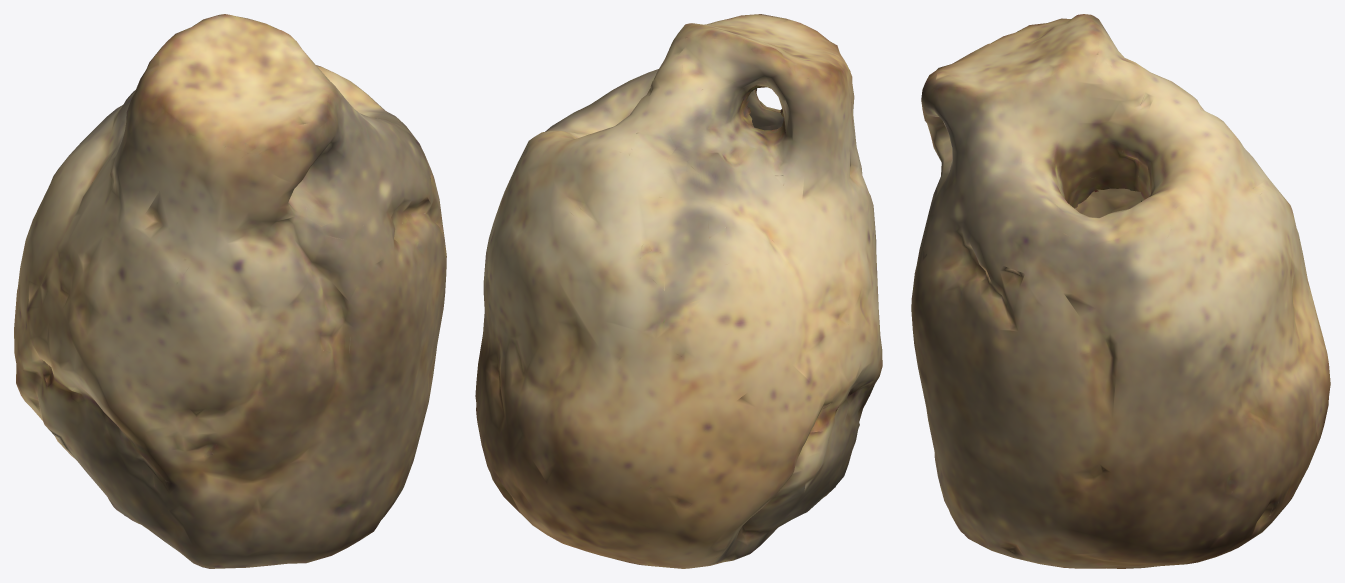
The picture shows the model from 3 angles, left to right: view 1: azimuth 30°, elevation 25°; view 2: azimuth 150°, elevation 25°; view 3: azimuth 270°, elevation 25°; orthographic projection. The views are drawn at different scales.
Parts seen in each view (by area): view 1: IN0306_ss_low; view 2: IN0306_ss_low; view 3: IN0306_ss_low.
Part boxes in pixels (x1,y1,x2,y2): IN0306_ss_low: (14,14,446,568); IN0306_ss_low: (475,14,882,568); IN0306_ss_low: (911,14,1330,568).
Size of the model in its own units: 34.43 by 46.58 by 35.82.
1 material, 1 textured.
